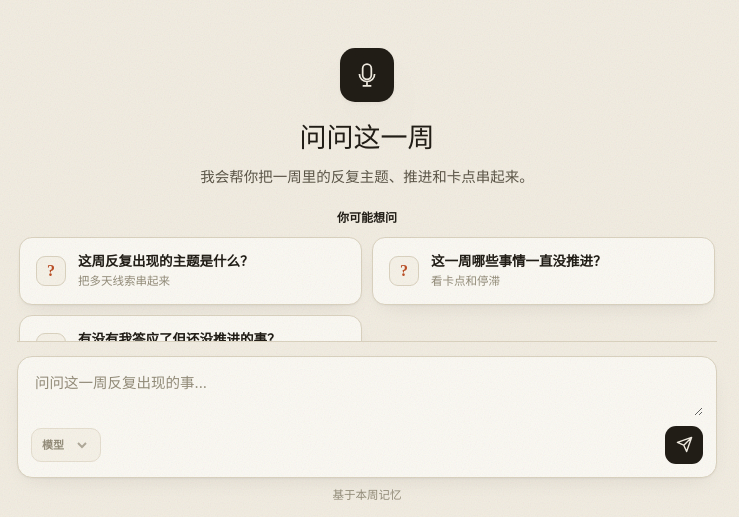
Test: QaPanel › uses the selected reference date for week-scope history and questions
This screenshot has width=739, height=517.
Type "这周有什么进展？" into the text box named "问题".
click(367, 393); type("这周有什么进展？")  # box [31, 370, 703, 416]
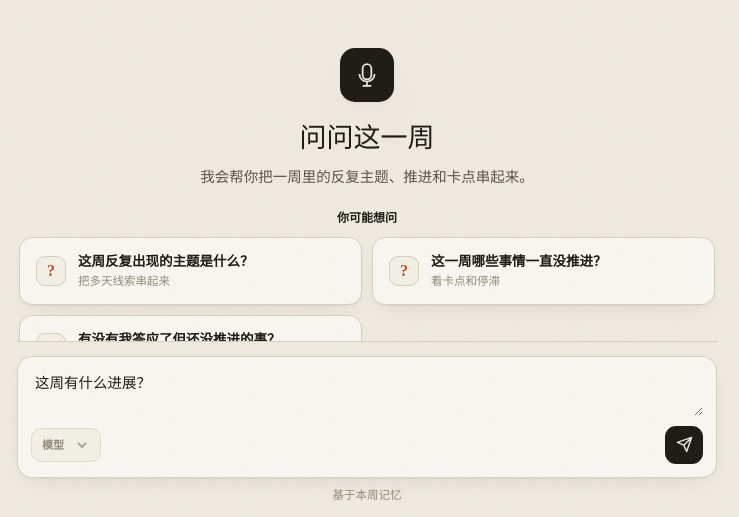
Press Enter in the text box named "问题", box [31, 370, 703, 416]
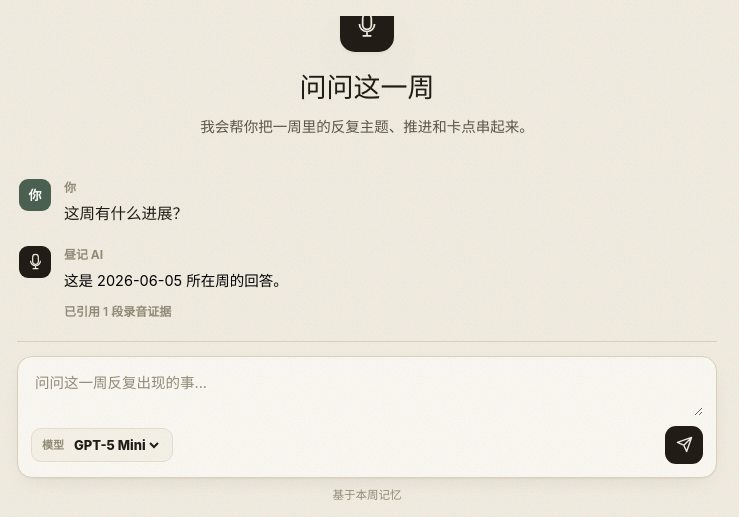
Expected: the text "这是 2026-06-05 所在周的回答。" is shown, [64, 272, 288, 288]
